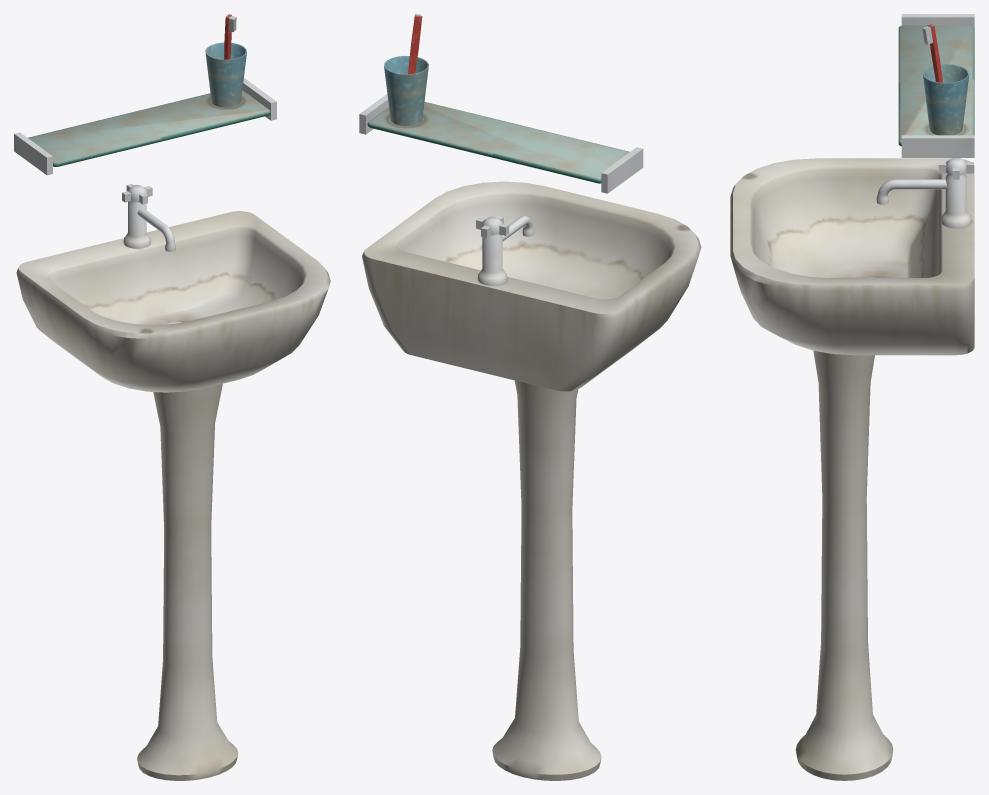
File: basin.glb
3 renders of one model, left to right at view 1: azimuth 30°, elevation 25°; view 2: azimuth 150°, elevation 25°; view 3: azimuth 270°, elevation 25°, orthographic. The views are drawn at different scales.
Parts seen in each view (by area): view 1: Basin; view 2: Basin; view 3: Basin.
Part boxes in pixels (bbox=[...]): Basin: bbox=[14, 14, 330, 780]; Basin: bbox=[359, 14, 701, 780]; Basin: bbox=[730, 14, 974, 780].
Size of the model in its own units: 0.48 by 1.35 by 0.385.
1 material, 1 textured.
